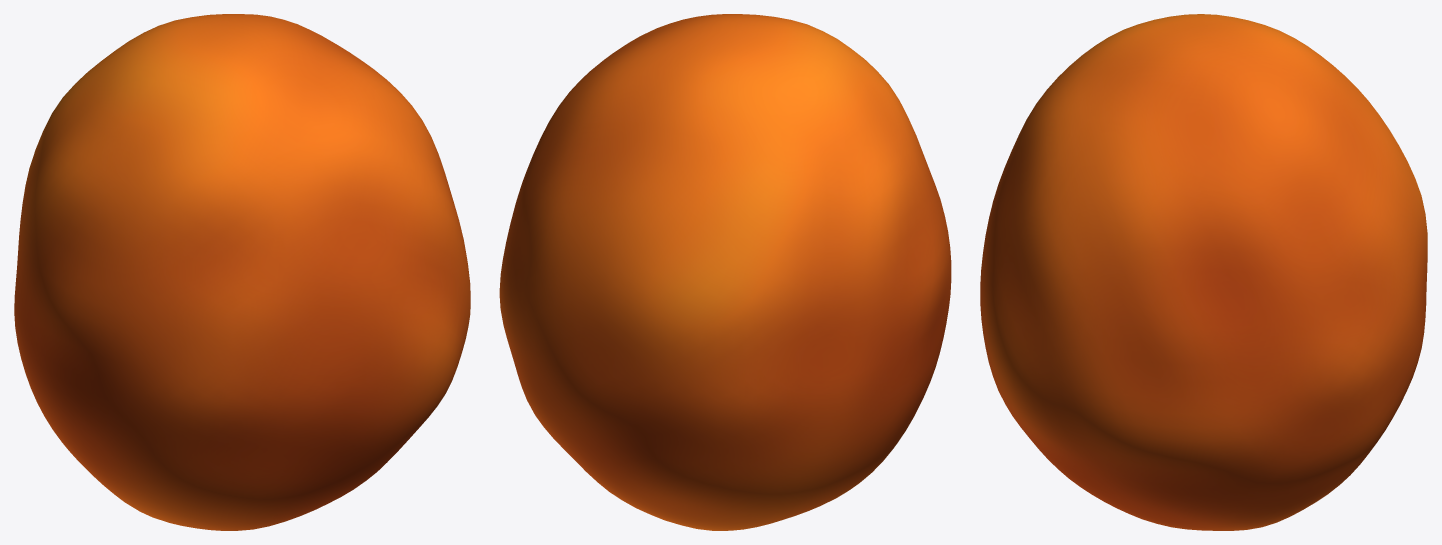
File: fireball.fbx
The picture shows the model from 3 angles, left to right: view 1: azimuth 30°, elevation 25°; view 2: azimuth 150°, elevation 25°; view 3: azimuth 270°, elevation 25°; orthographic projection.
Visible parts, largest first — view 1: fireball; view 2: fireball; view 3: fireball.
Part boxes in pixels (x1,y1,x2,y2): fireball: (14,14,470,530); fireball: (499,14,951,530); fireball: (980,14,1427,530).
Bounding box in the file's own units: 0.0644 × 0.075 × 0.0642.
Materials: 1 (1 with a texture image).
